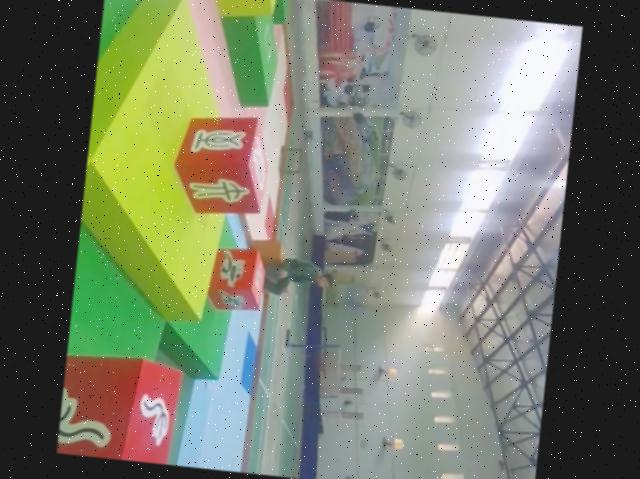R1: (202, 243, 270, 318)
R2 Fake: (170, 106, 275, 221)
R2 Real: (56, 337, 190, 466)
